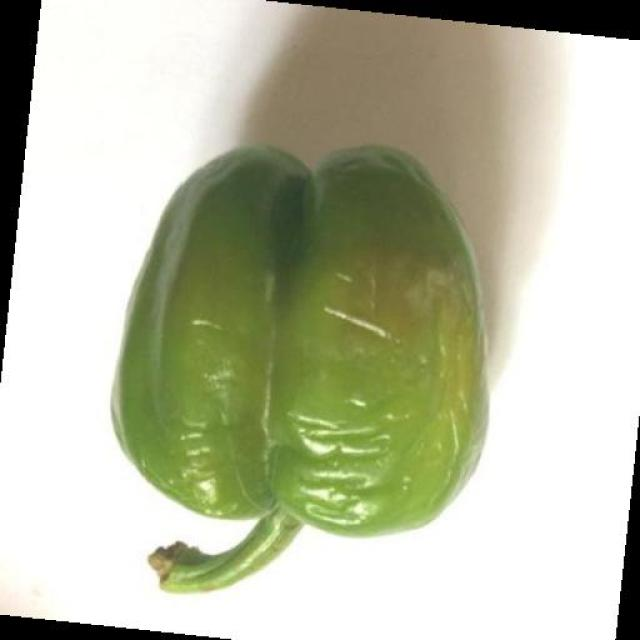Stale_Capsicum: (148, 123, 548, 584)
